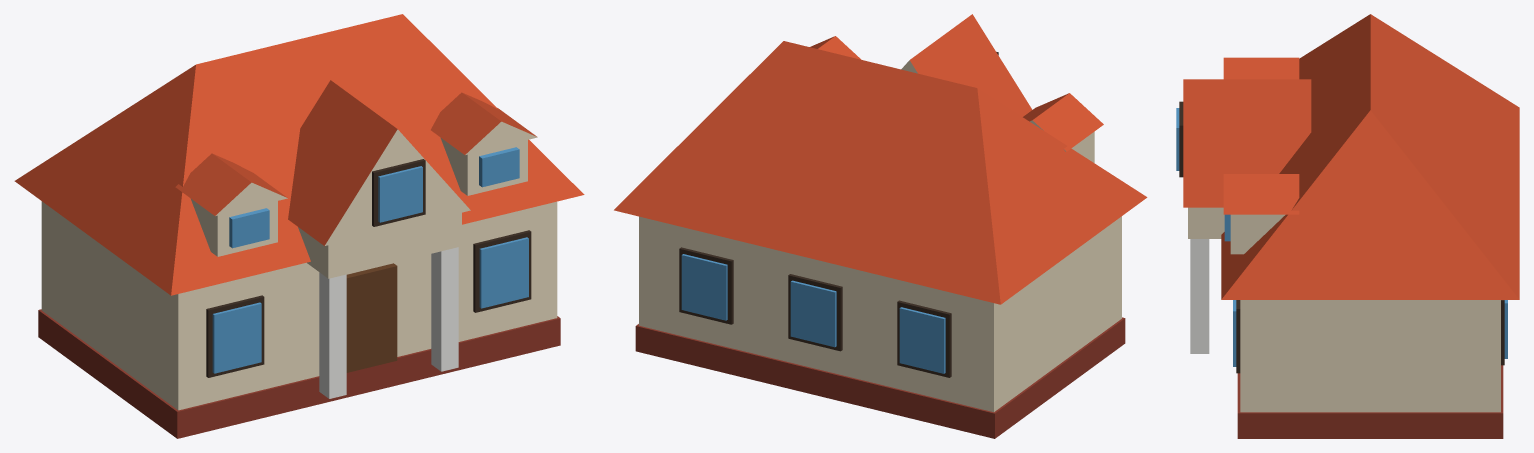
Rendered from 57_polish_dworek_1.obj.
3 renders of one model, left to right at view 1: azimuth 30°, elevation 25°; view 2: azimuth 150°, elevation 25°; view 3: azimuth 270°, elevation 25°, orthographic. The views are drawn at different scales.
Parts seen in each view (by area): view 1: 57_polish_dworek_1; view 2: 57_polish_dworek_1; view 3: 57_polish_dworek_1.
Part boxes in pixels (x1,y1,x2,y2): 57_polish_dworek_1: [14, 14, 584, 438]; 57_polish_dworek_1: [614, 14, 1147, 438]; 57_polish_dworek_1: [1176, 14, 1519, 438].
Size of the model in its own units: 1.92 by 1.34 by 1.45.
